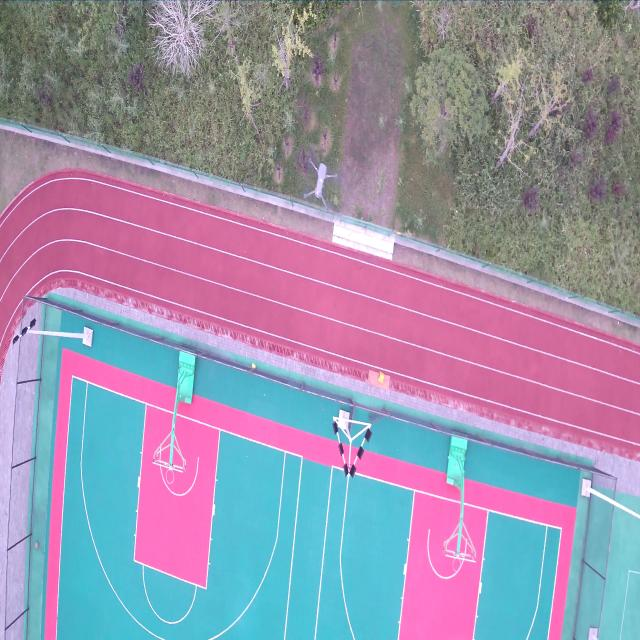UAV: (303, 156, 337, 212)
